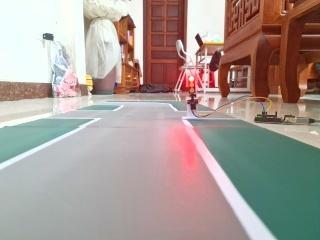red: (182, 71, 204, 108)
